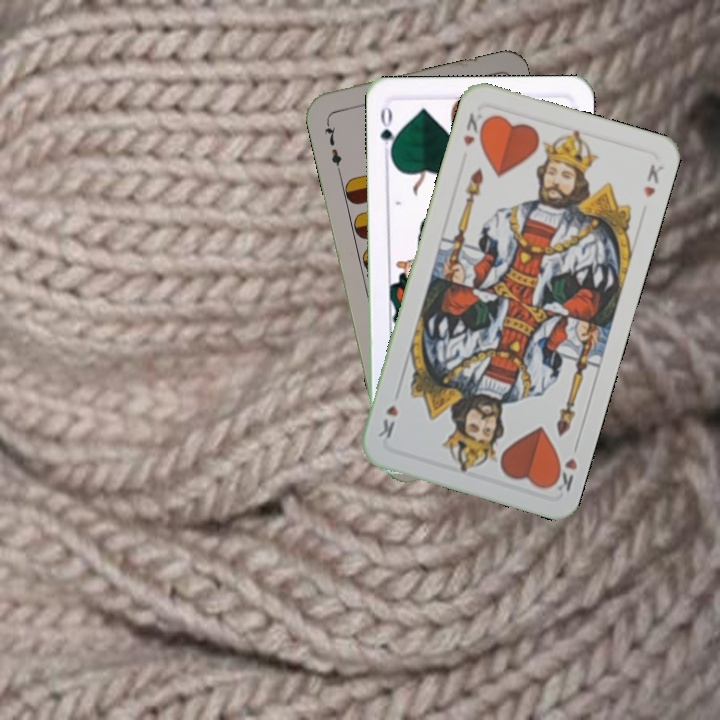E7: (320, 116, 344, 174)
GO: (376, 103, 400, 161)
HK: (547, 438, 582, 494), (459, 108, 490, 149)
